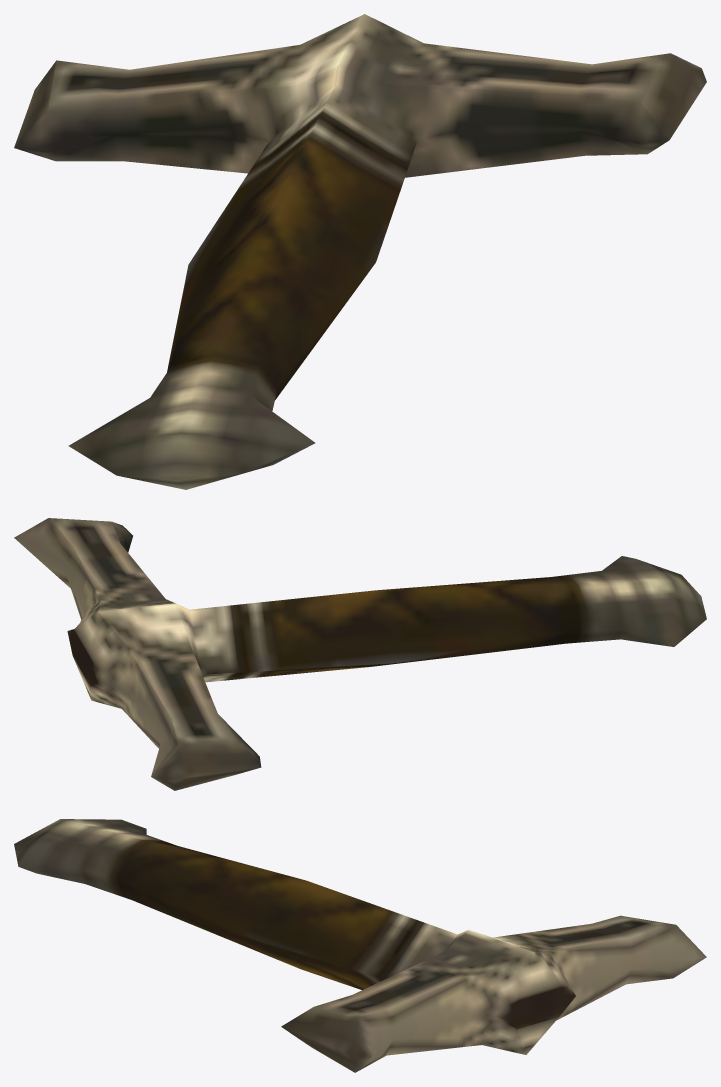
3 views of the same model, one above another, from view 1: azimuth 30°, elevation 25°; view 2: azimuth 150°, elevation 25°; view 3: azimuth 270°, elevation 25° (orthographic). The views are drawn at different scales.
Parts seen in each view (by area): view 1: sword; view 2: sword; view 3: sword.
Part boxes in pixels (left/top/right/bottom): sword: left=14, top=14, right=706, bottom=489; sword: left=14, top=518, right=706, bottom=790; sword: left=14, top=819, right=706, bottom=1072.
Bounding box in the file's own units: 48.95 × 8.17 × 50.55.
1 material, 1 textured.
